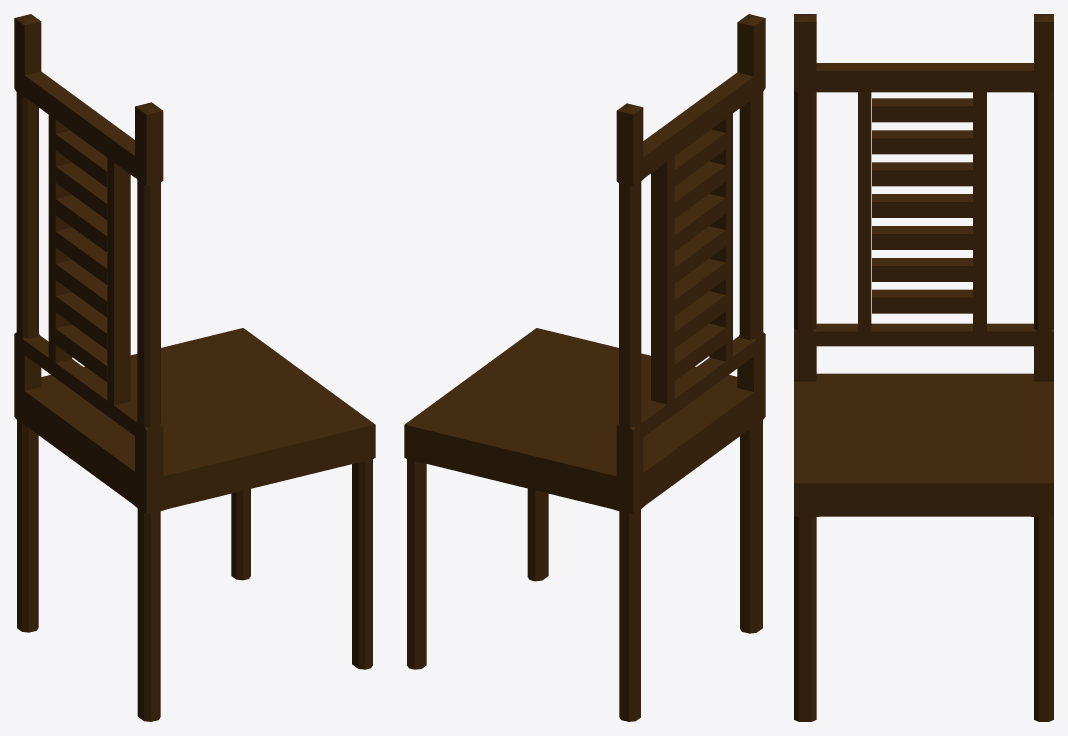
The model's file is SM_Chair.fbx.
3 views of the same model, side by side, from view 1: azimuth 30°, elevation 25°; view 2: azimuth 150°, elevation 25°; view 3: azimuth 270°, elevation 25° (orthographic).
Visible parts, largest first — view 1: Cube; view 2: Cube; view 3: Cube.
Part boxes in pixels (<box>): Cube: <box>14,14,375,721</box>; Cube: <box>404,14,765,721</box>; Cube: <box>794,14,1053,721</box>.
Bounding box in the file's own units: 49.93 × 127 × 49.93.
